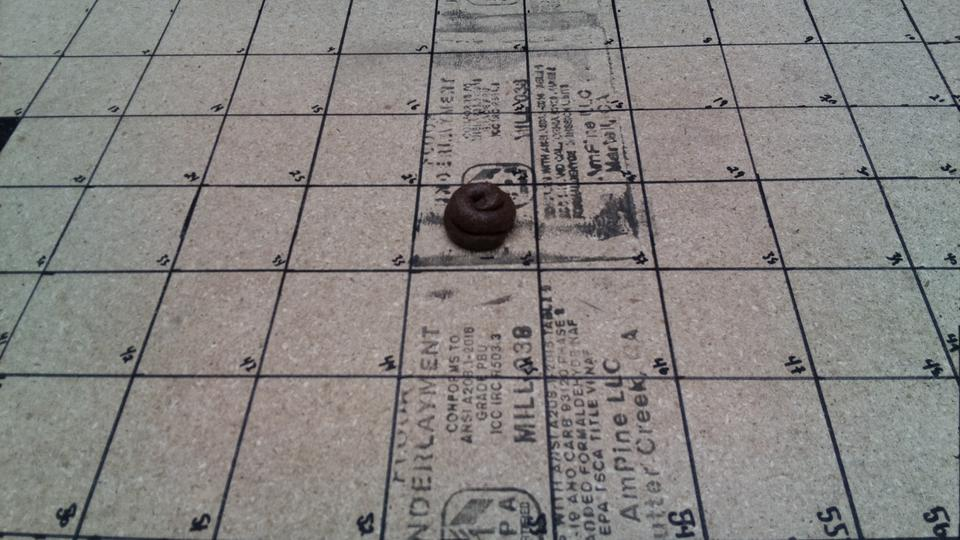poop: (121, 375, 233, 499), (1, 380, 92, 496), (255, 375, 349, 471)
